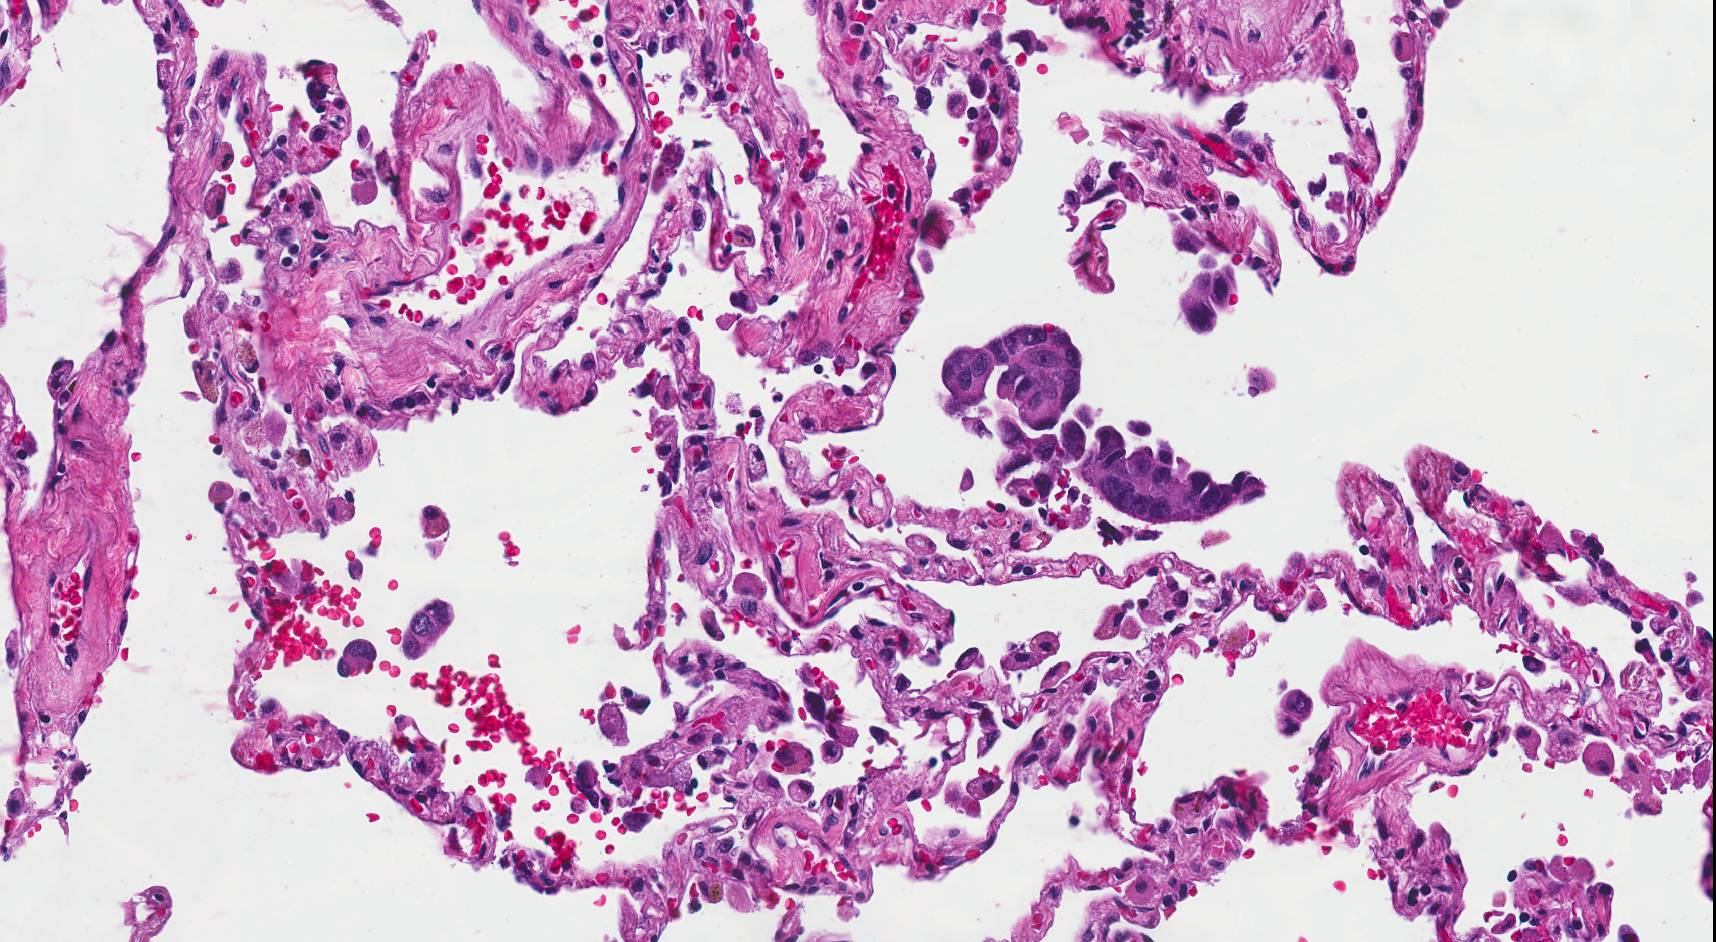stas: (998, 406, 1268, 522), (942, 323, 1087, 431), (1178, 262, 1241, 335), (402, 599, 456, 659), (1276, 691, 1316, 740), (336, 636, 377, 677)
